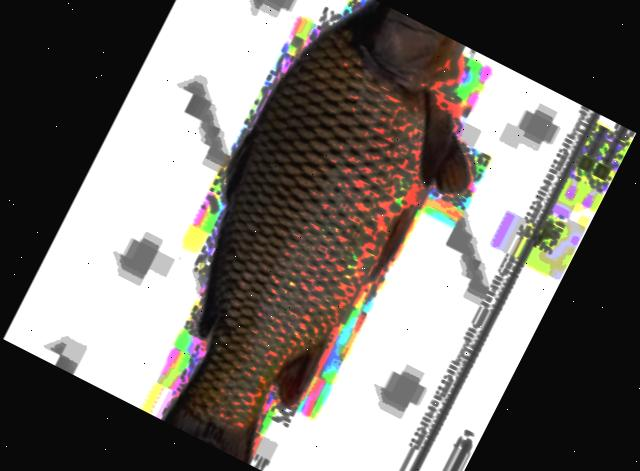Healthy Fish: (166, 0, 467, 463)
